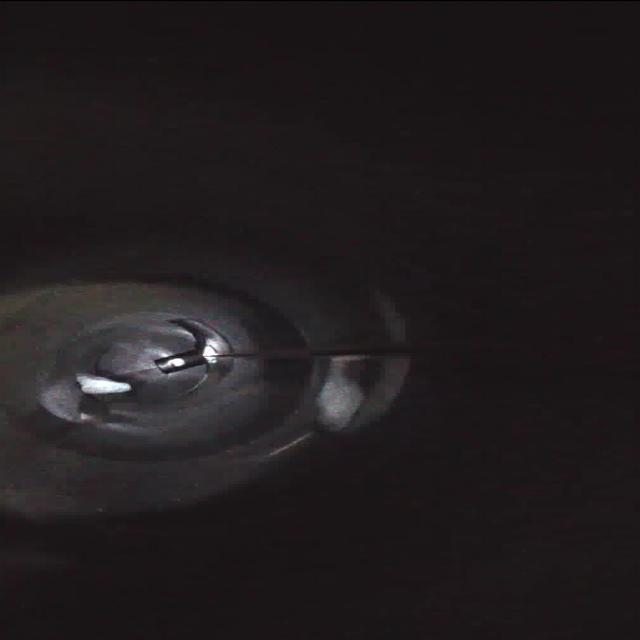impurity: (64, 367, 136, 401)
